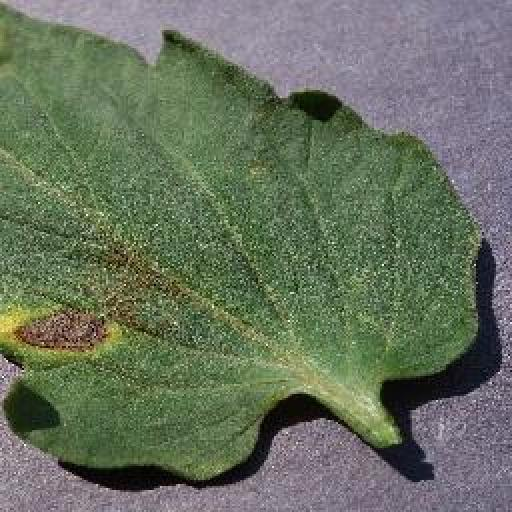disease_tomato: (0, 8, 482, 481)
